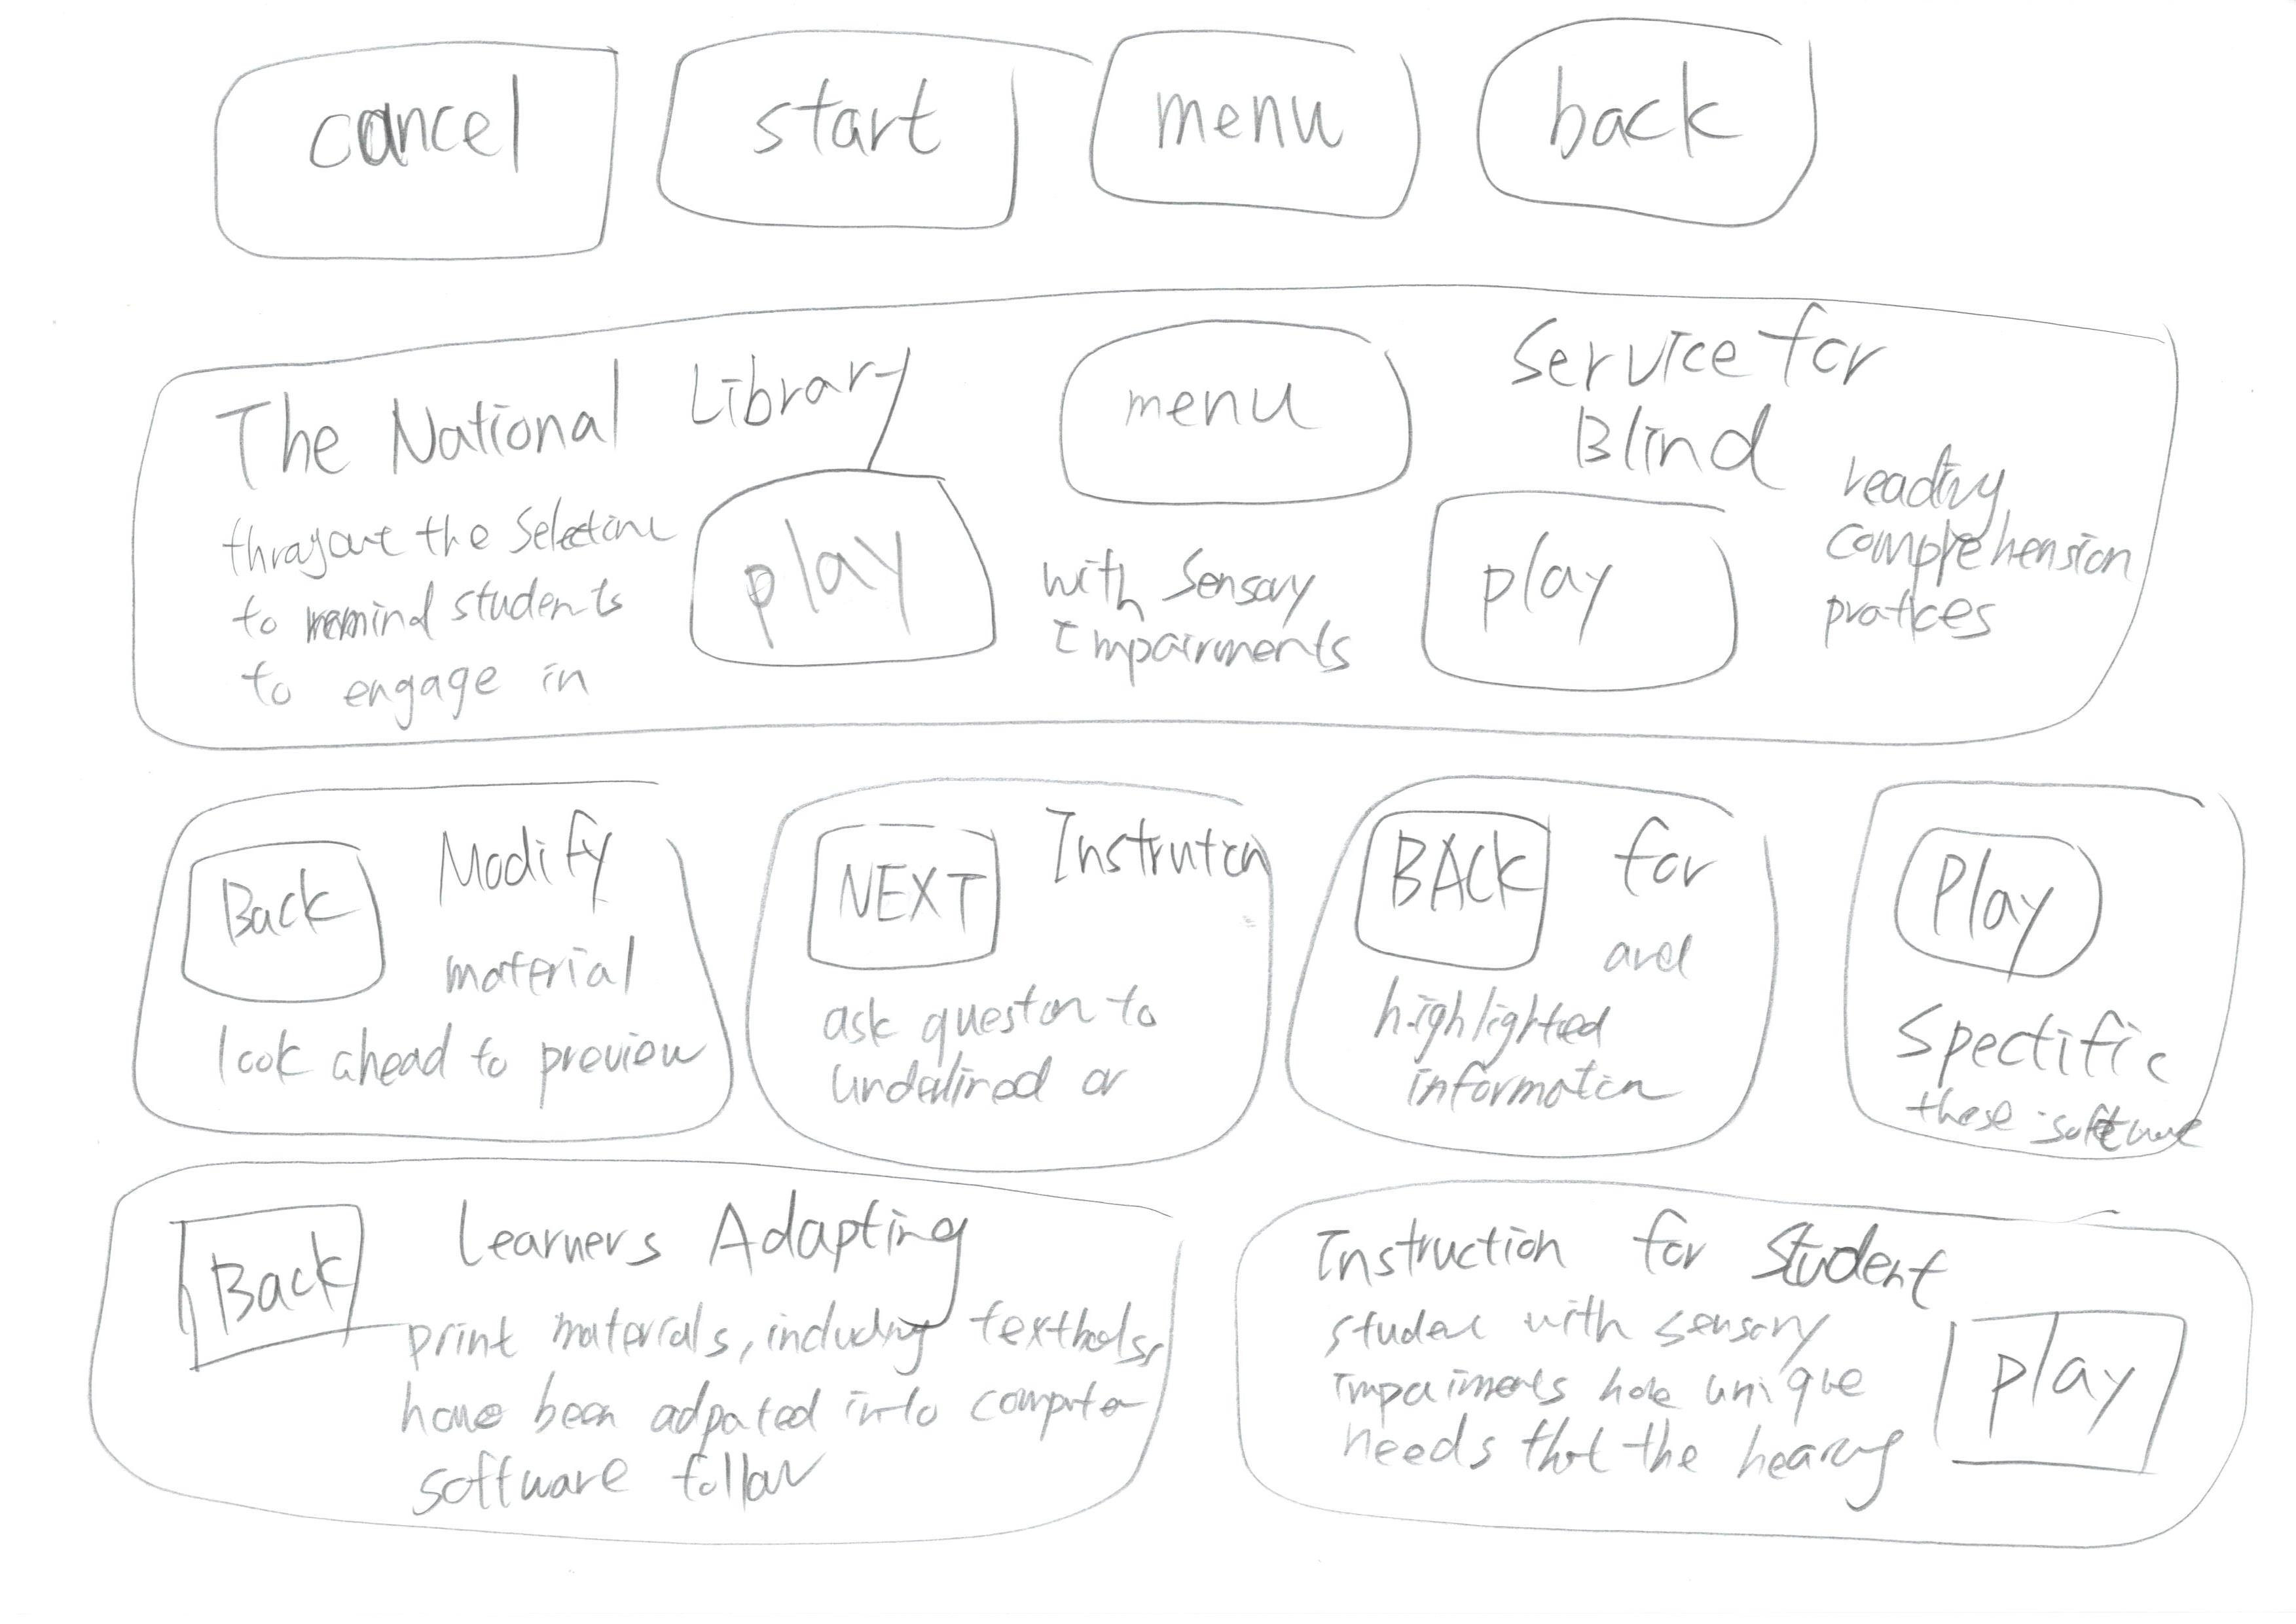back: (1443, 4, 1848, 246), (160, 800, 401, 1028), (134, 1190, 401, 1387), (1334, 780, 1575, 977)
cancel: (214, 14, 645, 295)
double: (58, 1160, 1239, 1599), (1197, 1185, 2296, 1594)
menu: (1016, 301, 1440, 520), (1069, 0, 1442, 250)
next: (800, 789, 1009, 990)
play: (1401, 471, 1765, 733), (677, 450, 1025, 696), (1892, 1278, 2231, 1490), (1872, 803, 2131, 998)
quadruple: (63, 742, 744, 1169), (1262, 743, 1832, 1197), (735, 749, 1303, 1202), (1788, 729, 2296, 1195)
row: (84, 1114, 2296, 1624), (84, 251, 2296, 759), (84, 710, 2296, 1218), (72, 0, 2284, 283)
single: (72, 265, 2287, 750)
small-title: (1494, 288, 1864, 475), (1319, 1193, 1937, 1304), (220, 366, 926, 453), (447, 1202, 965, 1285), (1027, 794, 1259, 907), (420, 814, 633, 923), (1572, 826, 1719, 946), (1909, 1014, 2173, 1074)
start: (647, 18, 1062, 272)
text: (389, 1308, 1152, 1513), (1296, 1316, 1906, 1506), (220, 483, 647, 719), (1798, 441, 2168, 652), (1016, 536, 1392, 701), (204, 975, 679, 1098), (798, 975, 1181, 1120), (1373, 972, 1721, 1130), (1915, 1093, 2220, 1158)
